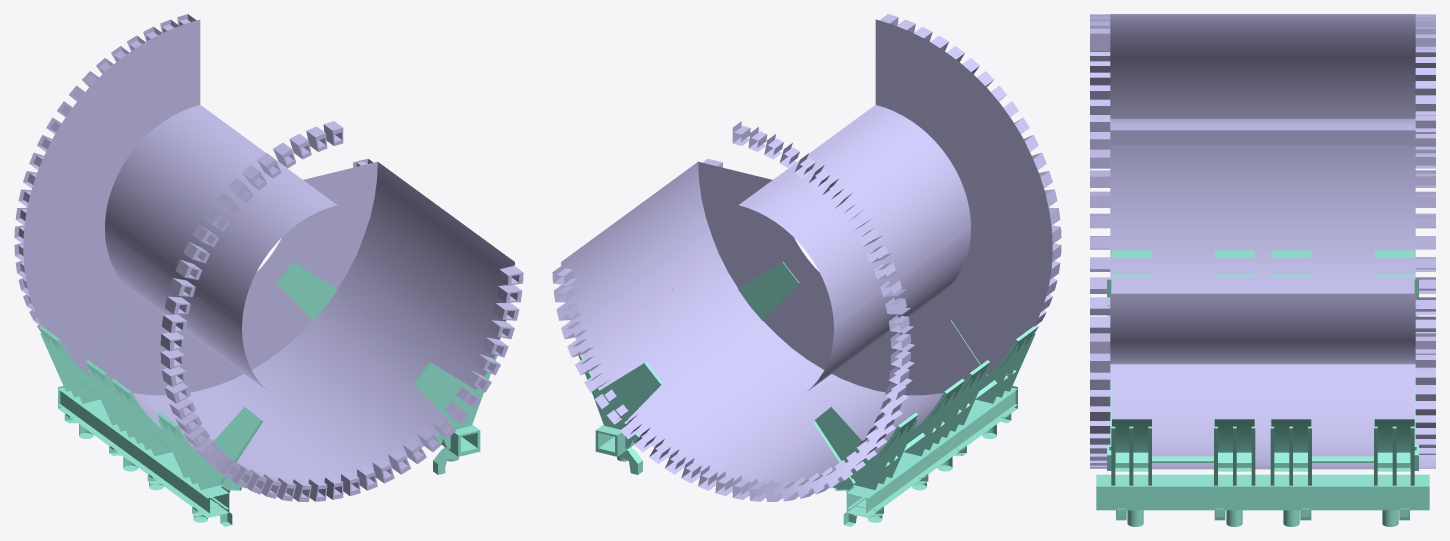
Rendered from calorimeter-tile-barrel-cut-3.glb.
The picture shows the model from 3 angles, left to right: view 1: azimuth 30°, elevation 25°; view 2: azimuth 150°, elevation 25°; view 3: azimuth 270°, elevation 25°; orthographic projection. The views are drawn at different scales.
Visible parts, largest first — view 1: Mesh_0.002, Mesh_1.003; view 2: Mesh_0.002, Mesh_1.003; view 3: Mesh_0.002, Mesh_1.003.
Boxes of the visible parts, left/top/right/bottom form: Mesh_0.002: left=14, top=14, right=523, bottom=501; Mesh_1.003: left=39, top=253, right=497, bottom=526; Mesh_0.002: left=552, top=14, right=1061, bottom=501; Mesh_1.003: left=578, top=254, right=1036, bottom=526; Mesh_0.002: left=1090, top=14, right=1435, bottom=469; Mesh_1.003: left=1096, top=250, right=1429, bottom=526.
Bounding box in the file's own units: 8.48 × 8.73 × 6.43.
